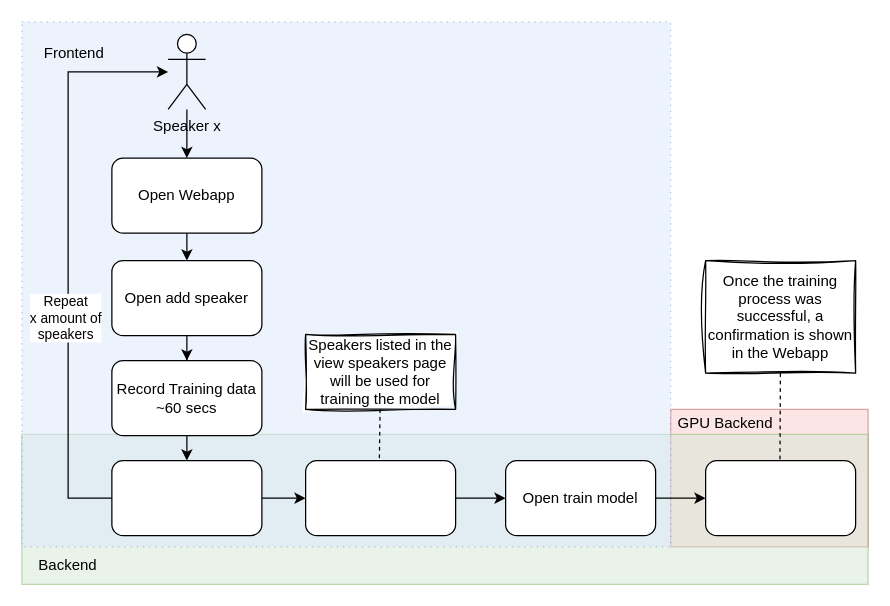
Some shapes in this 890 by 606 pixel diagram are drawn without their labels. Here are the shapes that lost their labels. From the top down, the box of each, then its label:
(111, 459, 262, 536): Upload Training data to backend
(304, 459, 456, 536): View speakers confirm all speakers or remove speaker accordingly
(704, 459, 856, 536): Select train model and wait
